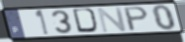0: (150, 4, 178, 32)
1: (34, 9, 51, 36)
3: (51, 9, 74, 35)
D: (71, 7, 102, 35)
N: (96, 6, 129, 34)
P: (123, 6, 150, 33)
